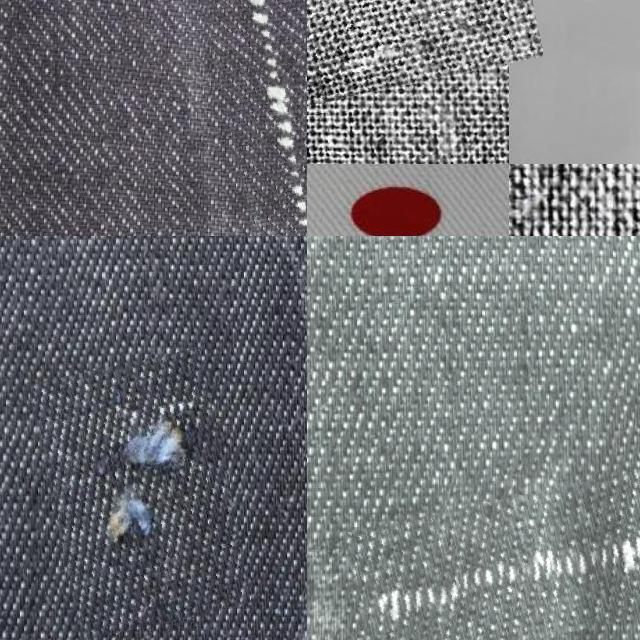Hole: (307, 0, 526, 108)
Thread_other: (40, 356, 242, 632), (348, 463, 640, 640), (190, 0, 307, 236)
